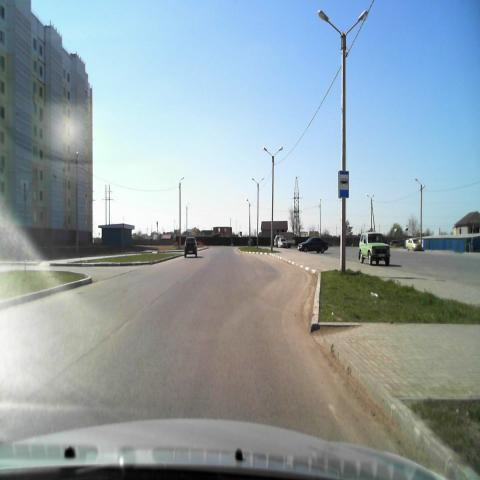5_16: (339, 172, 349, 198)
